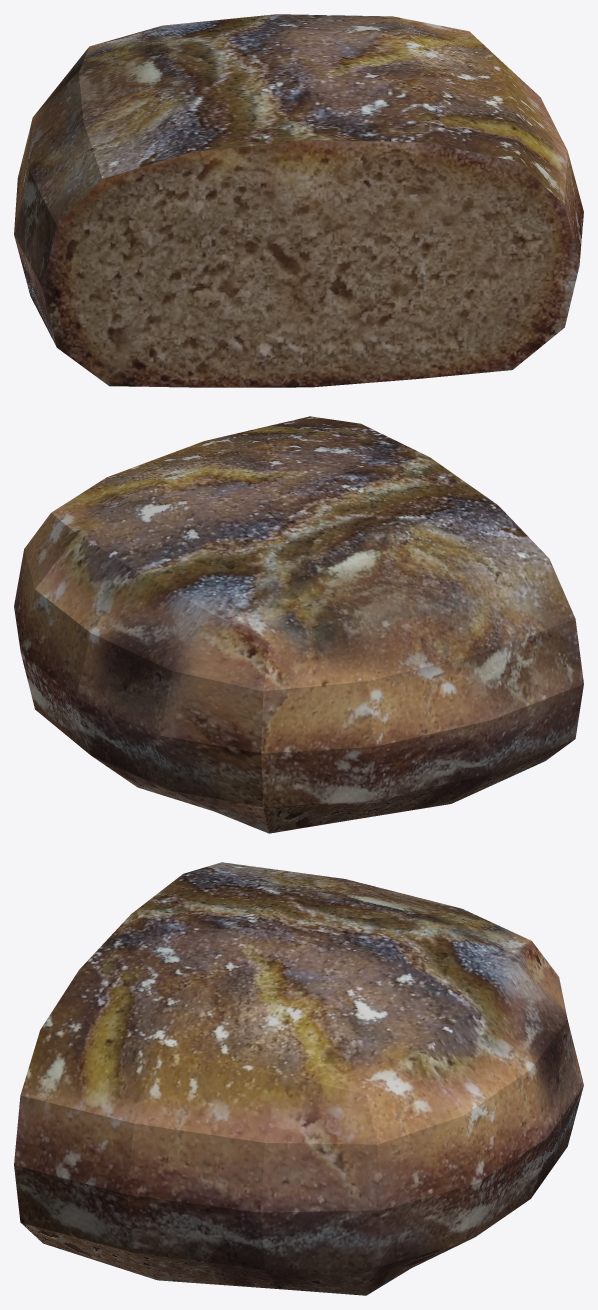
The model's file is bread.glb.
3 renders of one model, top to bottom at view 1: azimuth 30°, elevation 25°; view 2: azimuth 150°, elevation 25°; view 3: azimuth 270°, elevation 25°, orthographic. The views are drawn at different scales.
Parts seen in each view (by area): view 1: bread; view 2: bread; view 3: bread.
Part boxes in pixels (x1=…): bread: x1=14, y1=14, x2=583, y2=387; bread: x1=14, y1=416, x2=583, y2=833; bread: x1=14, y1=862, x2=583, y2=1295.
Size of the model in its own units: 0.5902 by 0.284 by 0.5386.
1 material, 1 textured.
